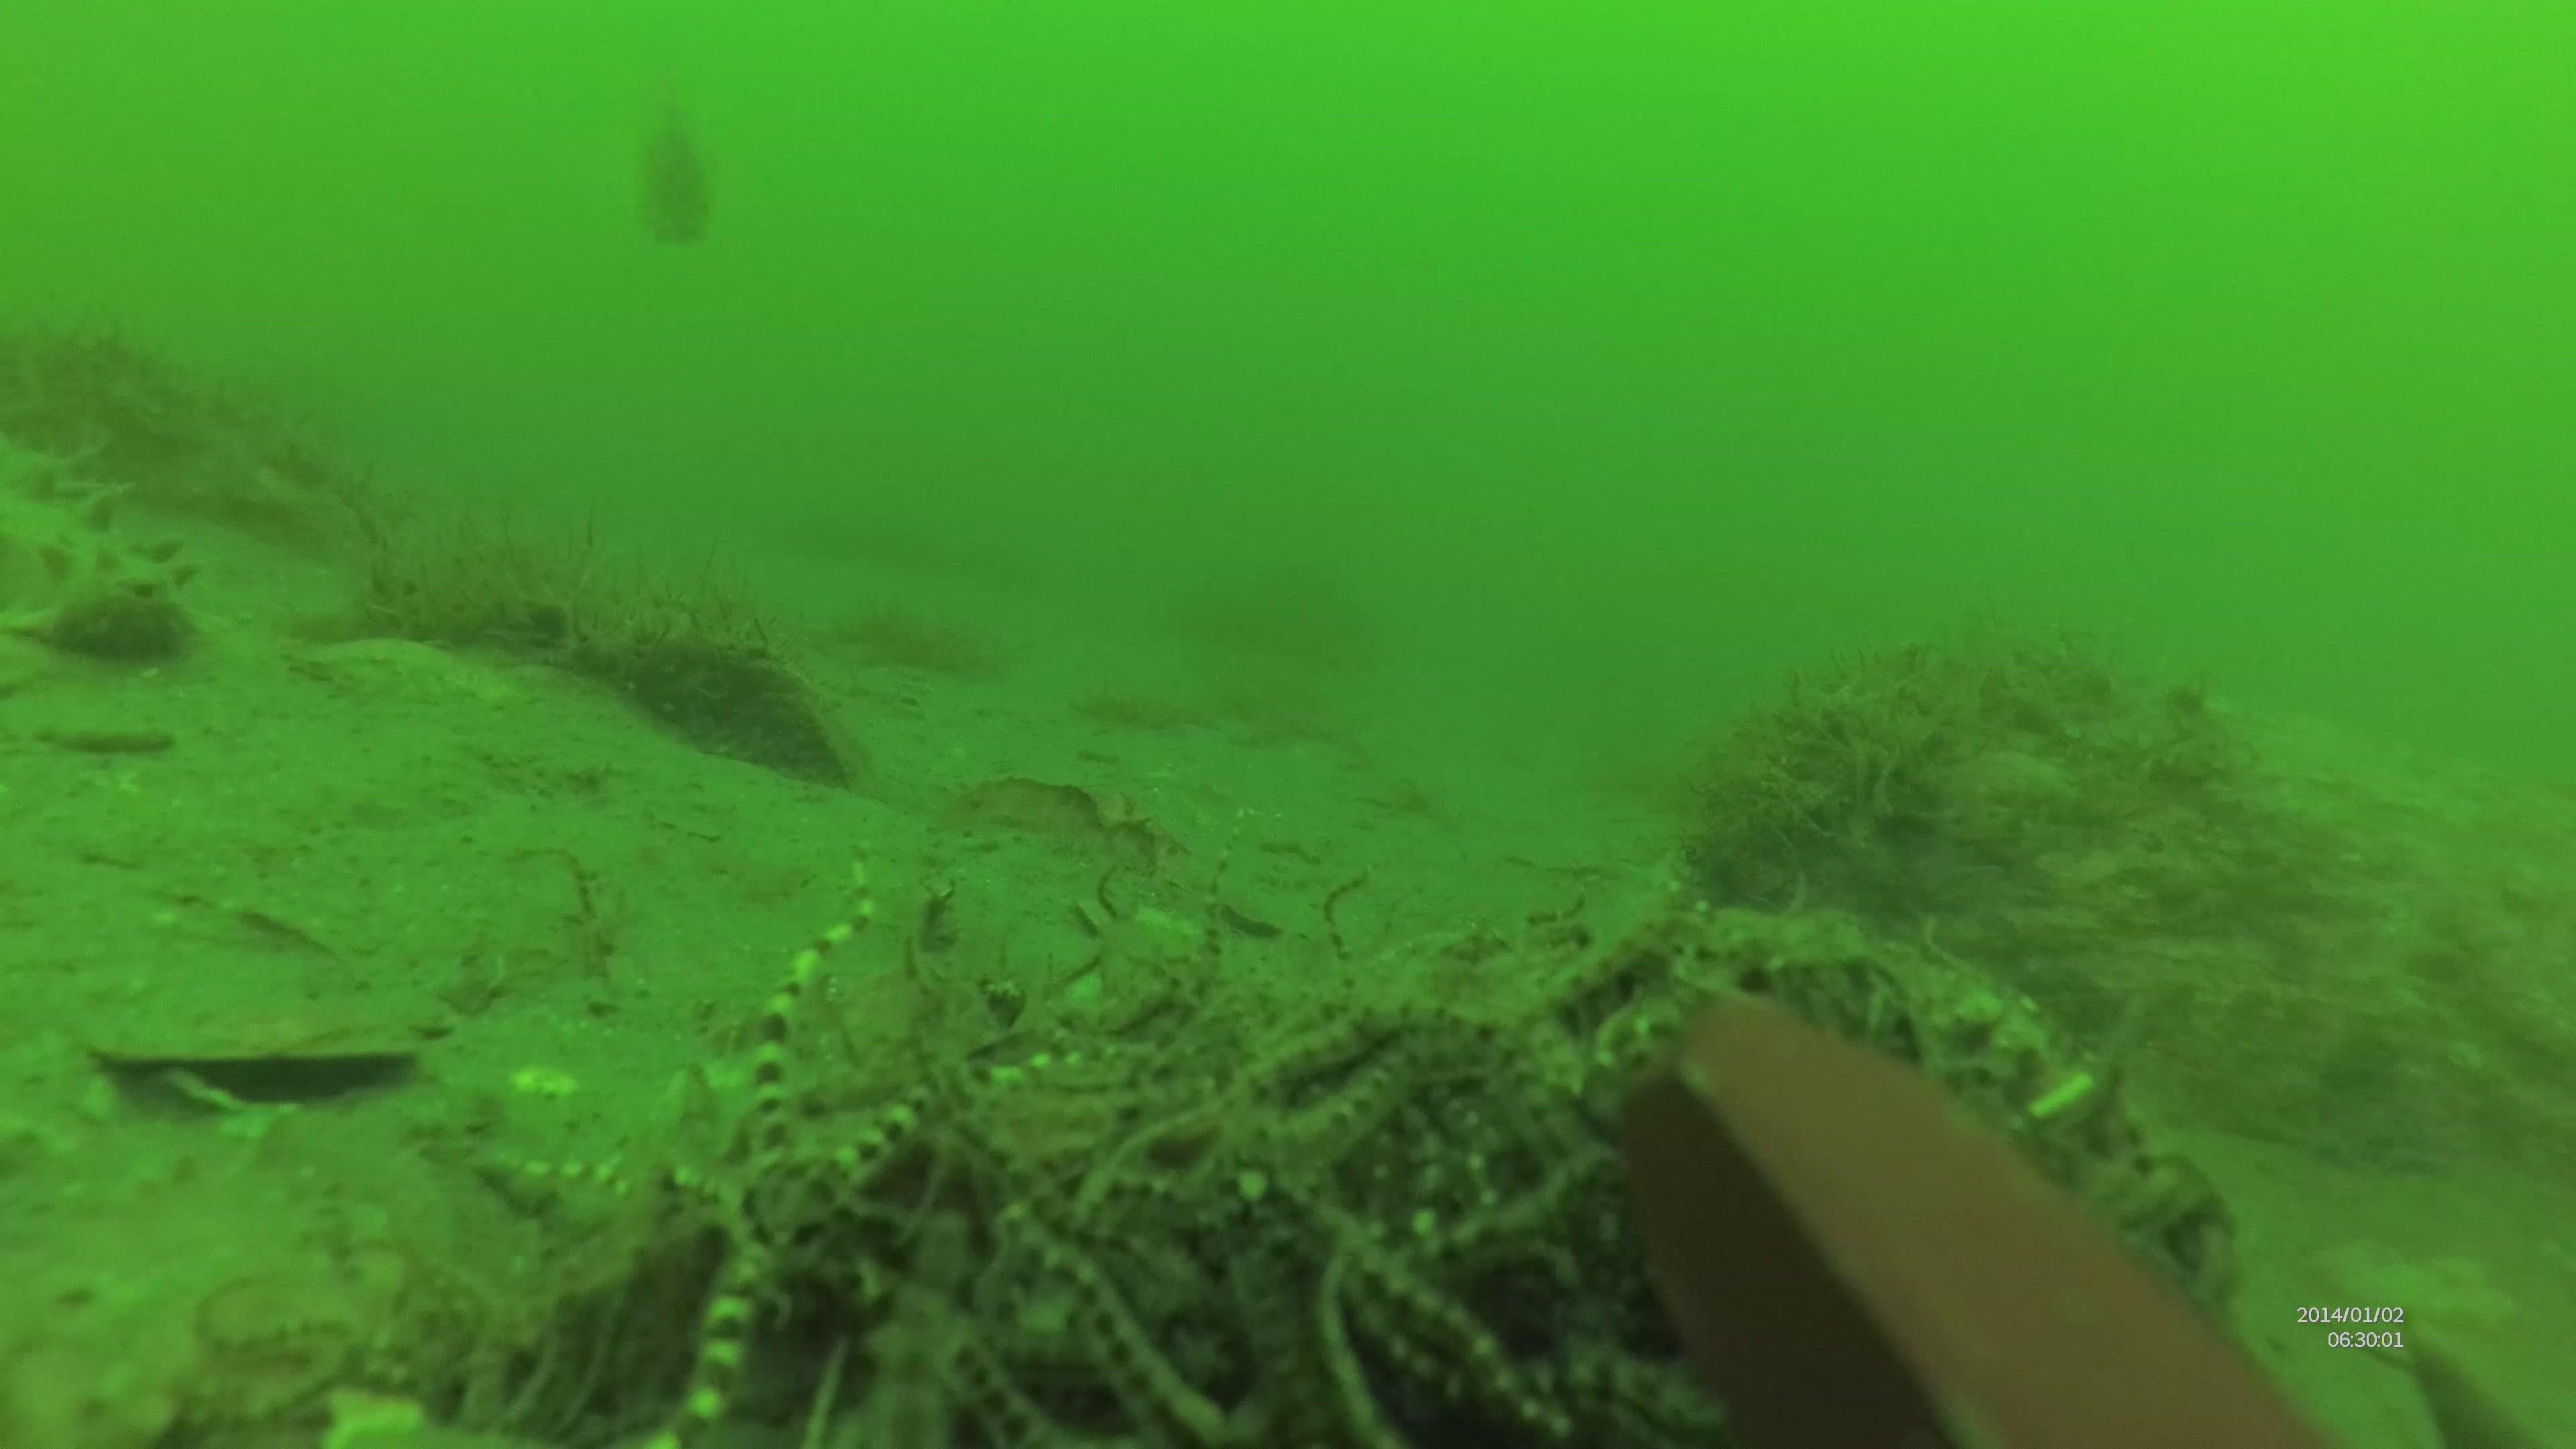holothurian: (0, 426, 207, 649)
starfish: (488, 847, 1104, 1449)
